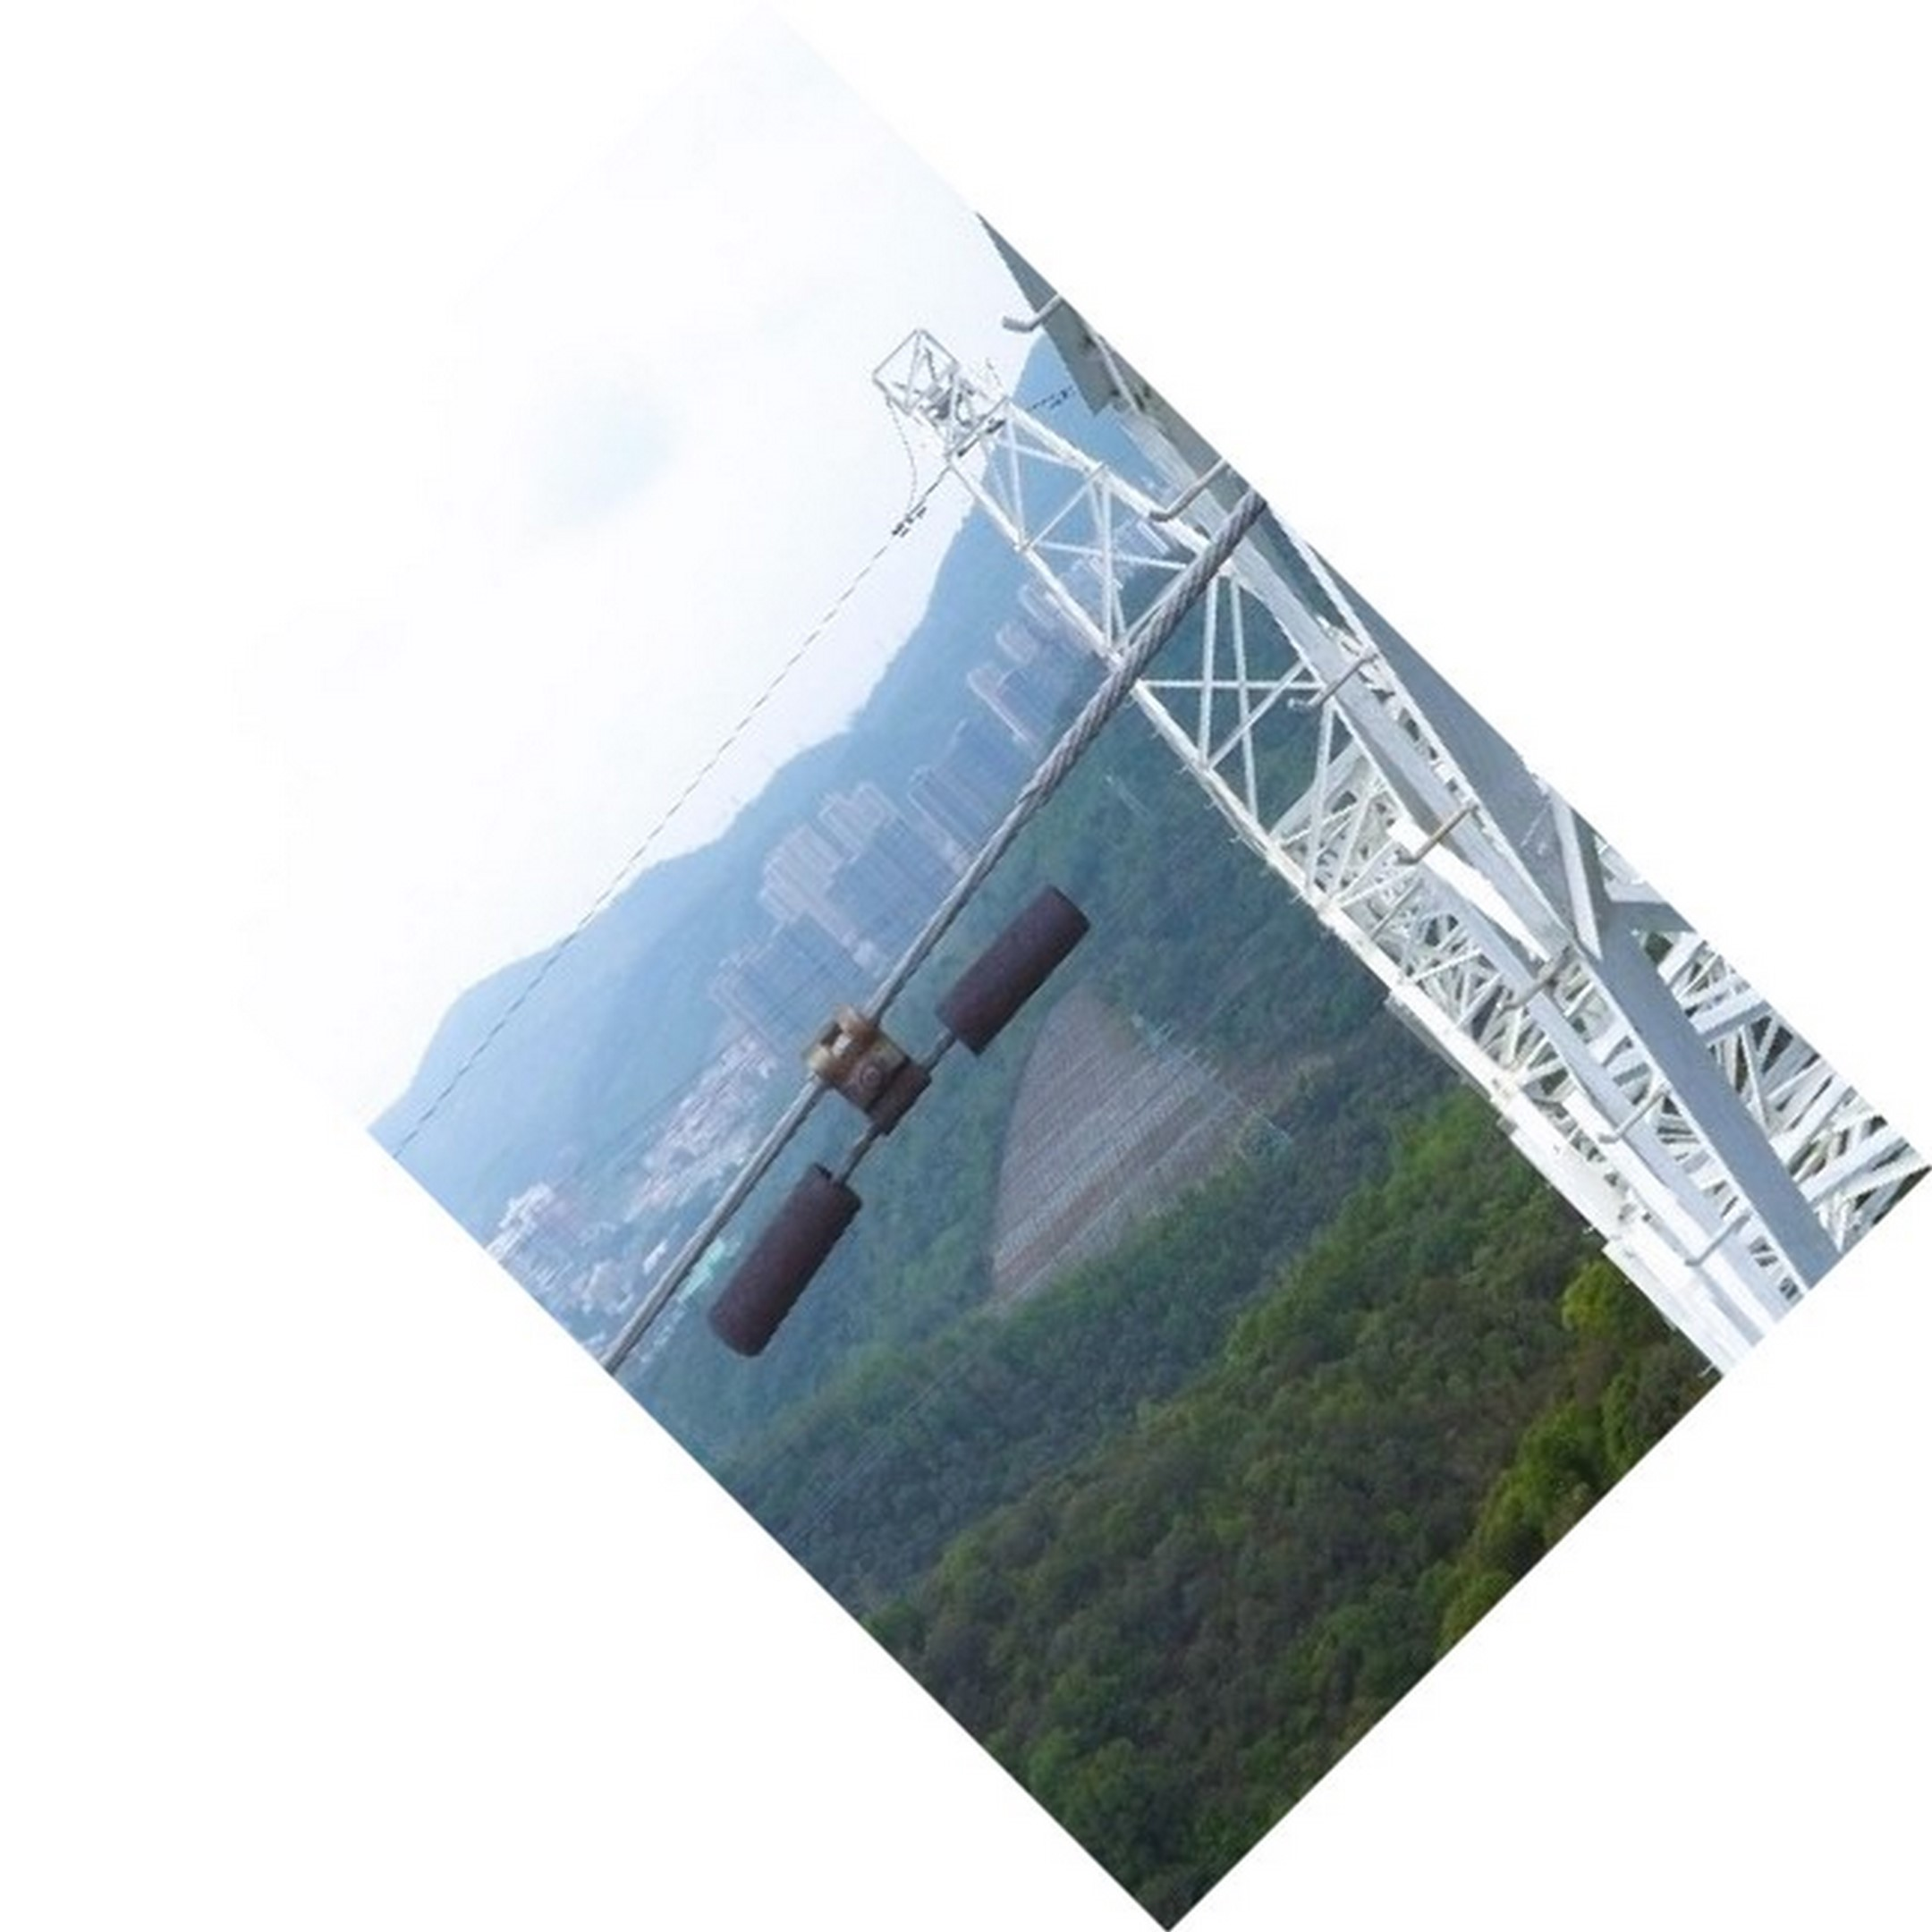Shockproof hammer: (676, 874, 1109, 1364)
